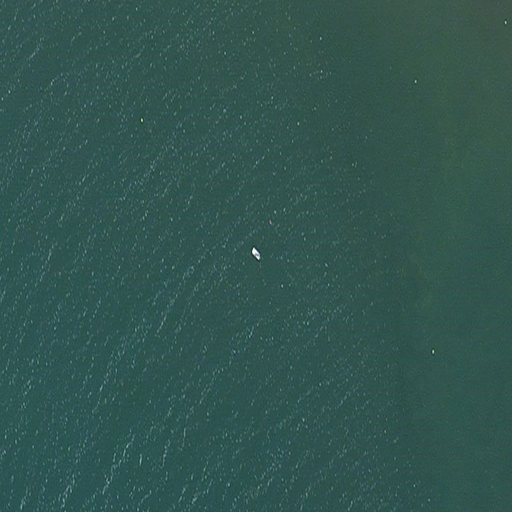ship: (249, 245, 260, 260)
